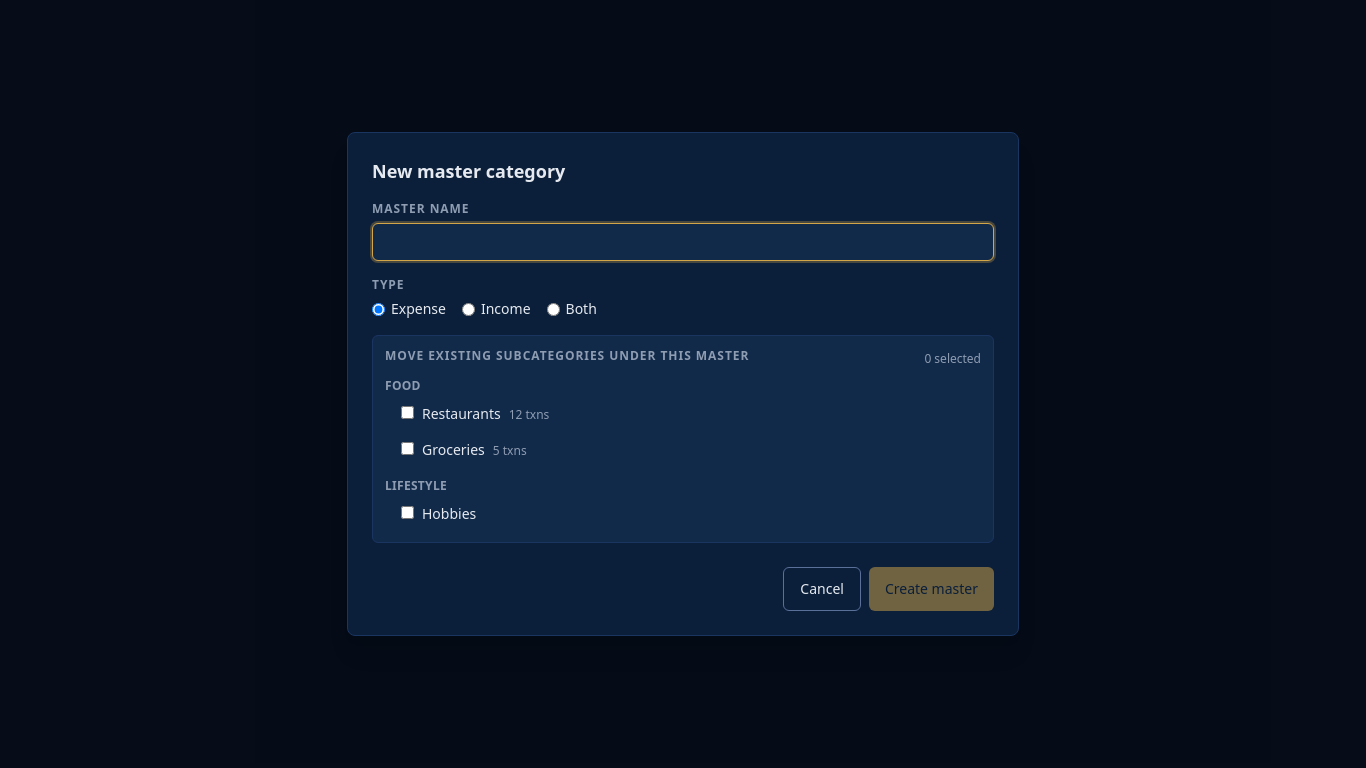
Scenario: AddMasterWithSubsModal › INCOME master only shows INCOME subs (BOTH and EXPENSE filtered out)
Click the radio button labelled "income".
click(468, 309)  # box 462,302 -> 475,316
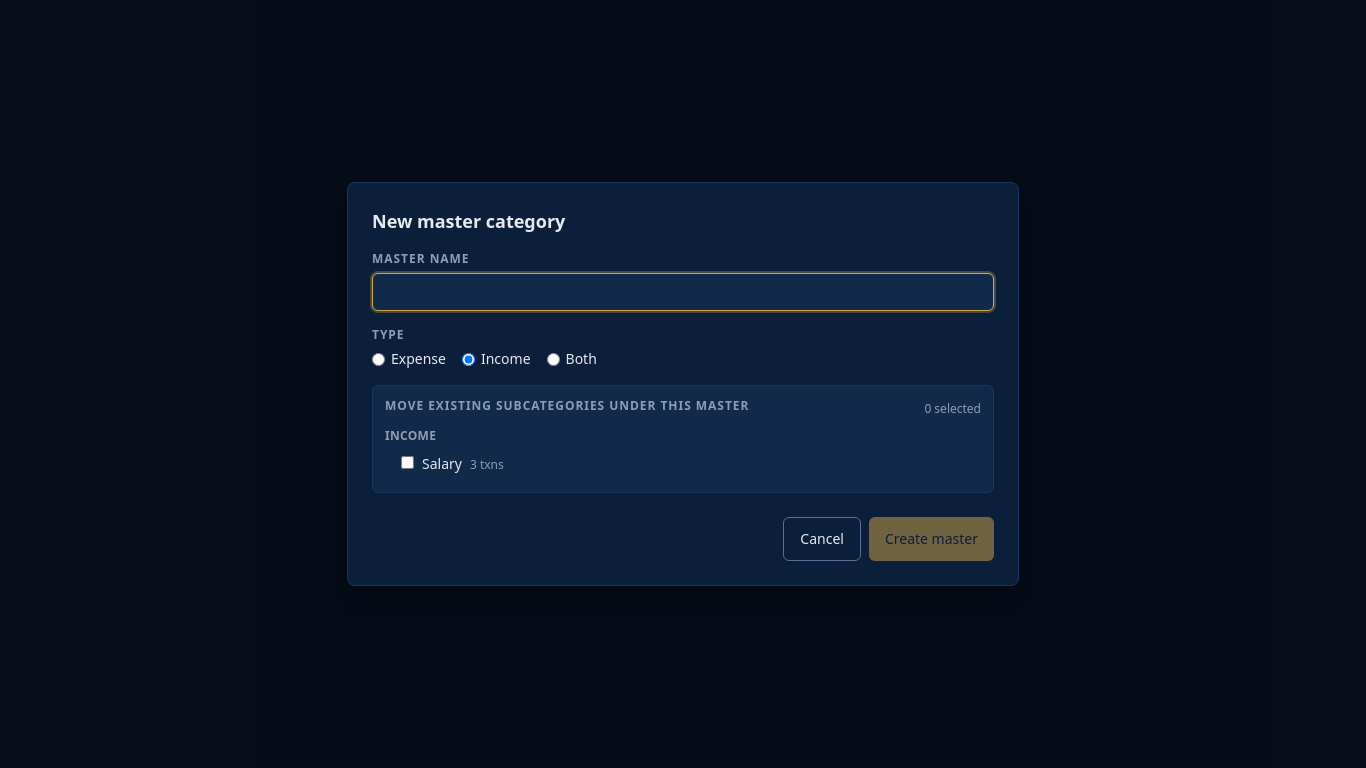
Check: the text with test id "group-3-label" reads "Income", box 385,427 -> 436,444
Check: the text with test id "group-1-label" is gone
Check: the text with test id "group-2-label" is gone
